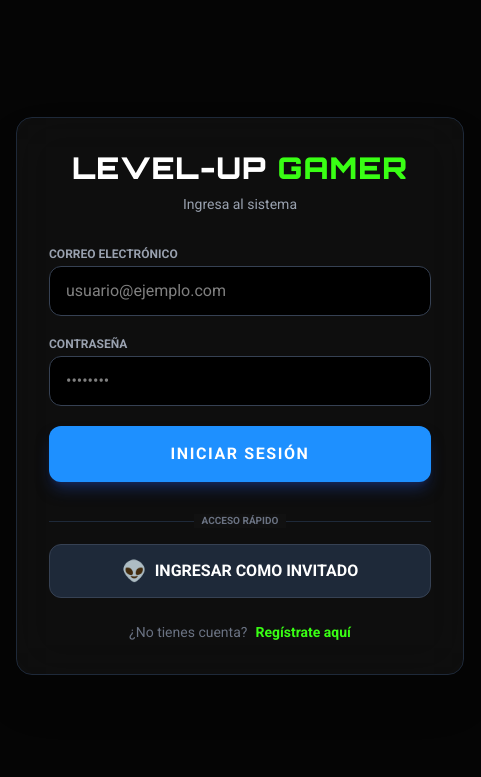
it: LoginPage Component › debería cambiar al formulario de Registro al hacer clic en el enlace
Buscar el botón para cambiar a registro y hacer clic
Click the button "Regístrate aquí": (303, 632) [255,622,351,642]
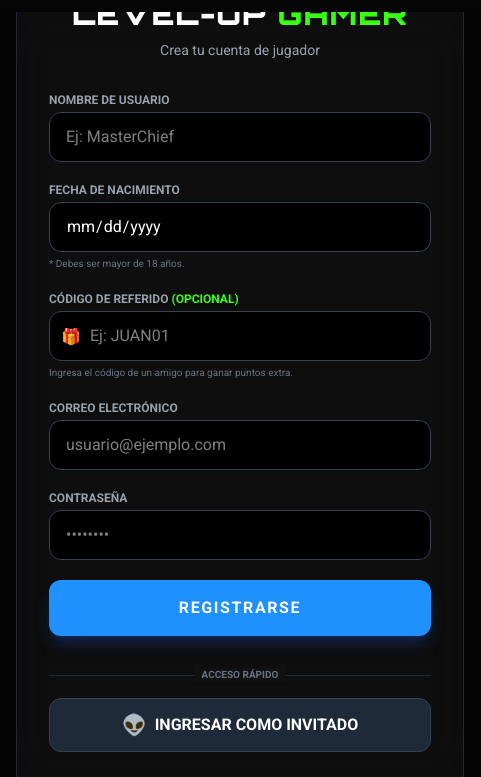
Now the text "Crea tu cuenta de jugador" is shown, box [160,42,320,58]
Now the field with placeholder "Ej: MasterChief" is shown, box [49,112,431,162]
Now the text "Fecha de Nacimiento" is shown, box [49,183,180,197]
